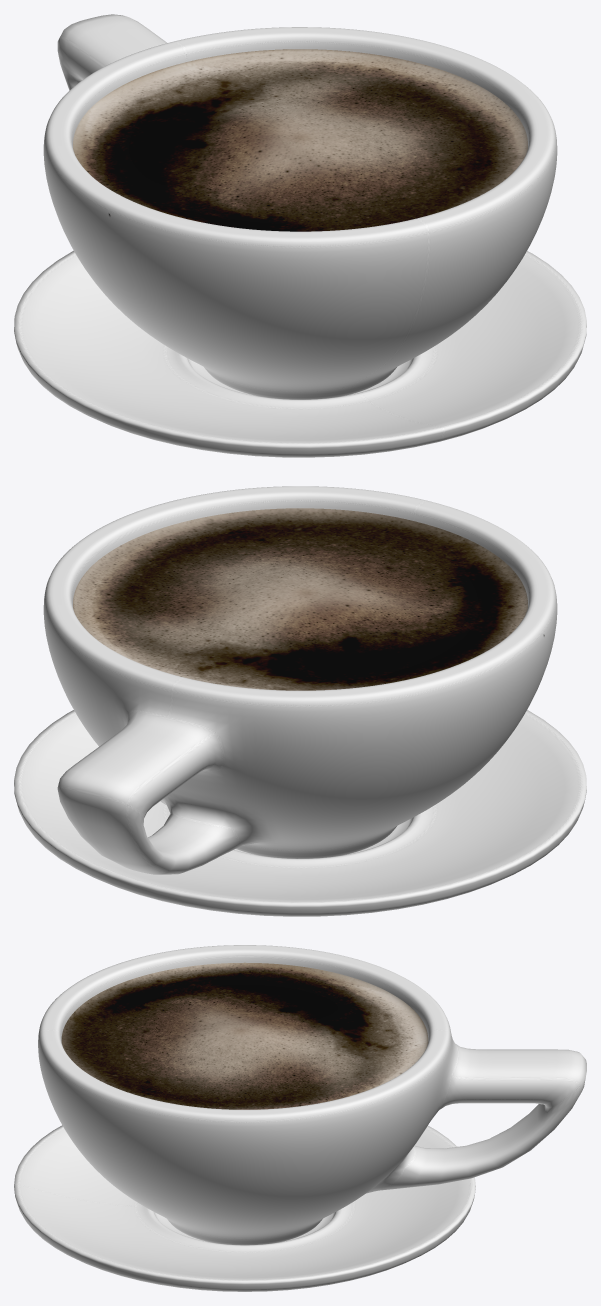
File: cup_of_coffee.glb
3 views of the same model, one above another, from view 1: azimuth 30°, elevation 25°; view 2: azimuth 150°, elevation 25°; view 3: azimuth 270°, elevation 25° (orthographic). The views are drawn at different scales.
Parts seen in each view (by area): view 1: Hrnek.001_0, Coffee.001_1, Podsalek.001_2; view 2: Hrnek.001_0, Coffee.001_1, Podsalek.001_2; view 3: Hrnek.001_0, Coffee.001_1, Podsalek.001_2.
Part boxes in pixels (bbox=[...]): Hrnek.001_0: bbox=[43, 14, 557, 399]; Coffee.001_1: bbox=[73, 49, 527, 231]; Podsalek.001_2: bbox=[14, 250, 586, 457]; Hrnek.001_0: bbox=[43, 486, 557, 874]; Coffee.001_1: bbox=[73, 508, 527, 690]; Podsalek.001_2: bbox=[14, 710, 586, 916]; Hrnek.001_0: bbox=[38, 945, 586, 1245]; Coffee.001_1: bbox=[61, 962, 428, 1109]; Podsalek.001_2: bbox=[14, 1125, 475, 1291].
Bounding box in the file's own units: 2.17 × 1.05 × 2.69.
Materials: 3 (3 with a texture image).
